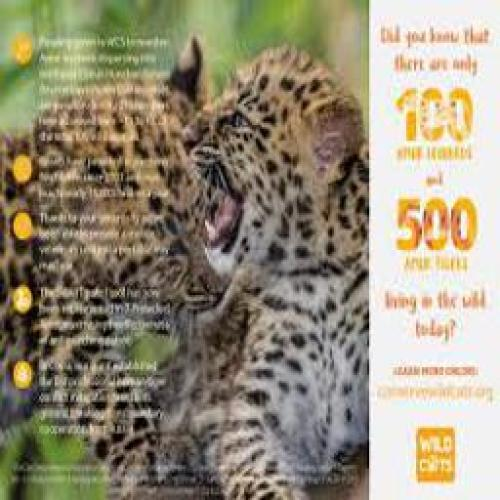amur_leopard-endangered: (107, 42, 367, 499), (0, 33, 230, 432)
